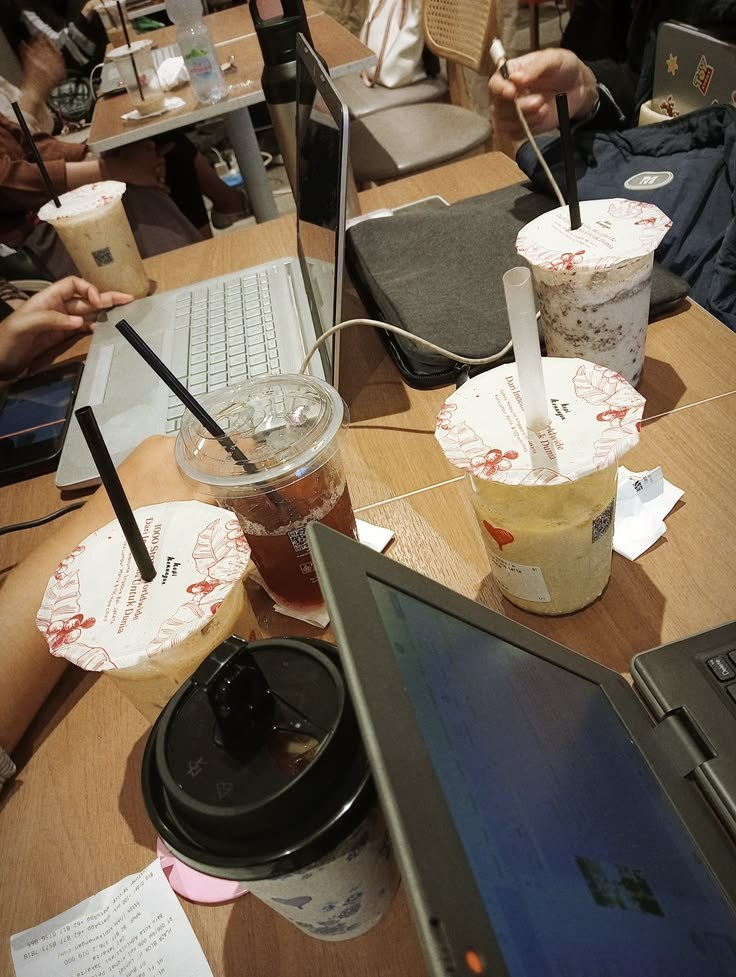cell phone: (0, 360, 85, 482)
laptop: (307, 519, 735, 975), (54, 30, 350, 490), (98, 7, 211, 92)
